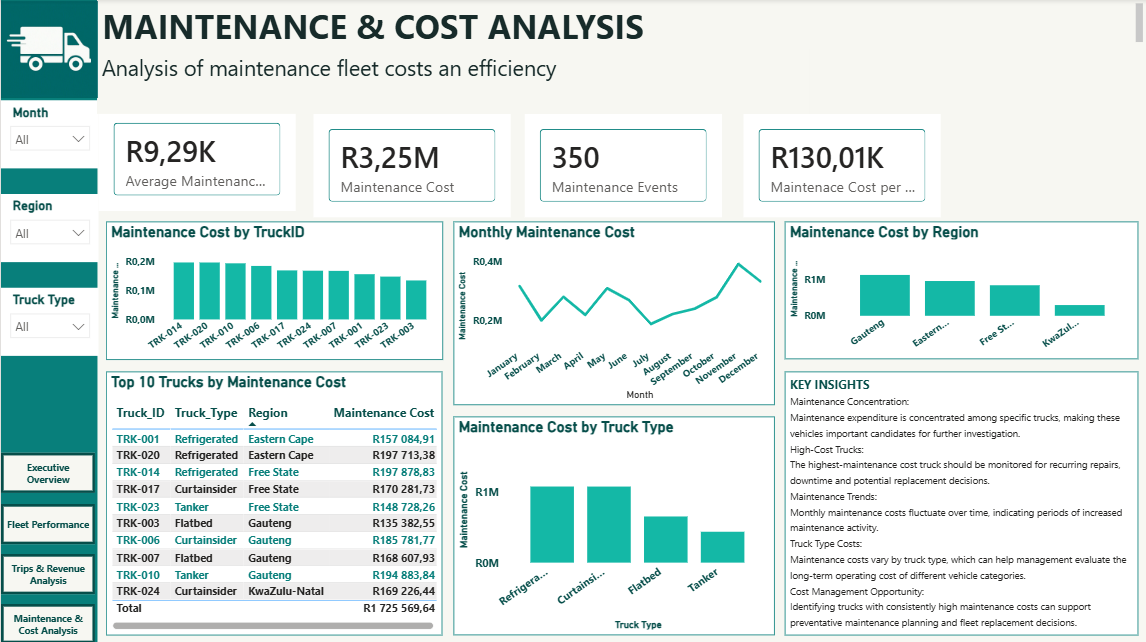

The page's visual inventory and layout, read from the dashboard file:
{"tool":"powerbi","page":{"name":"Maintenance & Cost Analysis","canvas":[1280,720],"ordinal":3},"visuals":[{"type":"cardVisual","fields":{"Data":["Maintenance.Maintenance Cost"]},"box":[349.2,128,220,115],"z":0},{"type":"cardVisual","fields":{"Data":["Maintenance.Average Maintenance Cost"]},"box":[108.5,121,220,115],"z":1000},{"type":"cardVisual","fields":{"Data":["Maintenance.Maintenance Events"]},"box":[584.3,128,220,115],"z":2000},{"type":"cardVisual","fields":{"Data":["Maintenance.Maintenace Cost per Truck"]},"box":[827.8,128,220,115],"z":3000},{"type":"clusteredColumnChart","title":"Maintenance Cost by Truck Type","fields":{"Category":["Truck_Master.Truck_Type"],"Y":["Maintenance.Maintenance Cost"]},"box":[504.1,465.7,358.3,244],"z":4000},{"type":"clusteredColumnChart","fields":{"Category":["Truck_Master.Region"],"Y":["Maintenance.Maintenance Cost"]},"box":[874.2,248.2,394.6,153.4],"z":5000},{"type":"lineChart","title":"Monthly Maintenance Cost","fields":{"Category":["Date_Dim.Month"],"Y":["Maintenance.Maintenance Cost"]},"box":[504.2,248.2,358.3,205],"z":6000},{"type":"columnChart","title":"Maintenance Cost by TruckID","fields":{"Category":["Truck_Master.Truck_ID"],"Y":["Maintenance.Maintenance Cost"]},"box":[116.9,247.7,375.7,154.4],"z":7000},{"type":"tableEx","title":"Top 10 Trucks by Maintenance Cost","fields":{"Values":["Truck_Master.Truck_ID","Truck_Master.Truck_Type","Truck_Master.Region","Maintenance.Maintenance Cost"]},"box":[117.1,415.5,375.1,294.2],"z":8000},{"type":"shape","box":[0,0,107.6,720.2],"z":9000},{"type":"slicer","fields":{"Values":["Truck_Master.Truck_Type"]},"box":[0,322.1,109,76],"z":10000},{"type":"slicer","fields":{"Values":["Truck_Master.Region"]},"box":[0,217.3,109,76],"z":11000},{"type":"slicer","fields":{"Values":["Date_Dim.Month"]},"box":[0,112.5,109,76],"z":12000},{"type":"shape","box":[107.6,0,1172.7,128.4],"z":13000},{"type":"textbox","box":[107.6,56.3,794,72],"z":14000},{"type":"textbox","box":[107.6,0,1171,56],"z":15000},{"type":"image","box":[0,0,107.6,112.5],"z":16000},{"type":"actionButton","box":[0,506.4,105,45],"z":17000},{"type":"actionButton","box":[0,563,105,45],"z":18000},{"type":"actionButton","box":[0,619.6,105,45],"z":19000},{"type":"actionButton","box":[0,675,105,45],"z":20000},{"type":"textbox","box":[874.2,415.5,394.6,294.2],"z":21000}]}

Visuals, with their boxes on the page's 1280x720 design canvas (x1, y1, x2, y2). These are canvas units, not pixel positions in the 1146x642 screenshot, which may show the page scaled, cropped or inside an application window:
cardVisual - Maintenance.Maintenance Cost: box(349, 128, 569, 243)
cardVisual - Maintenance.Average Maintenance Cost: box(108, 121, 328, 236)
cardVisual - Maintenance.Maintenance Events: box(584, 128, 804, 243)
cardVisual - Maintenance.Maintenace Cost per Truck: box(828, 128, 1048, 243)
"Maintenance Cost by Truck Type" clusteredColumnChart: box(504, 466, 862, 710)
clusteredColumnChart - Truck_Master.Region x Maintenance.Maintenance Cost: box(874, 248, 1269, 402)
"Monthly Maintenance Cost" lineChart: box(504, 248, 862, 453)
"Maintenance Cost by TruckID" columnChart: box(117, 248, 493, 402)
"Top 10 Trucks by Maintenance Cost" tableEx: box(117, 416, 492, 710)
shape: box(0, 0, 108, 720)
slicer - Truck_Master.Truck_Type: box(0, 322, 109, 398)
slicer - Truck_Master.Region: box(0, 217, 109, 293)
slicer - Date_Dim.Month: box(0, 112, 109, 188)
shape: box(108, 0, 1280, 128)
textbox: box(108, 56, 902, 128)
textbox: box(108, 0, 1279, 56)
image: box(0, 0, 108, 112)
actionButton: box(0, 506, 105, 551)
actionButton: box(0, 563, 105, 608)
actionButton: box(0, 620, 105, 665)
actionButton: box(0, 675, 105, 720)
textbox: box(874, 416, 1269, 710)
